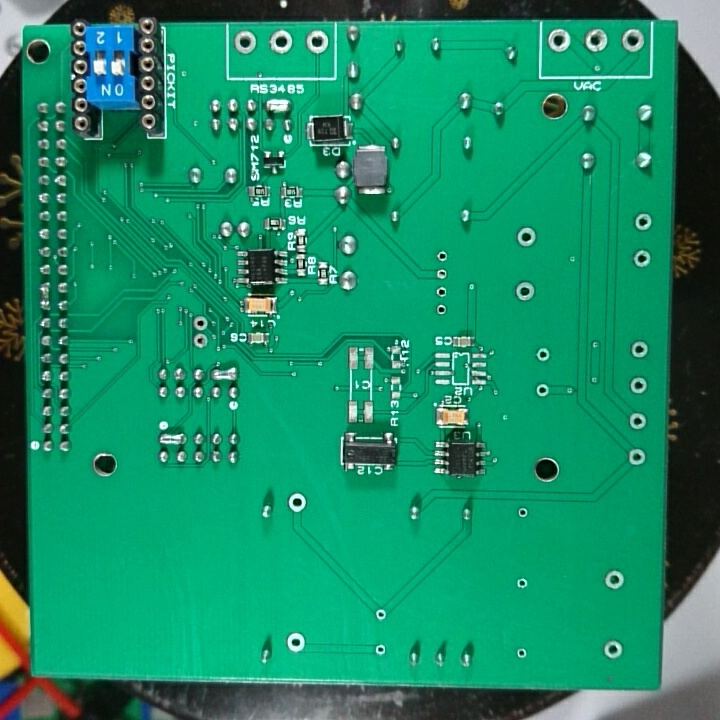F: (544, 26, 575, 57), (268, 26, 296, 60), (582, 25, 610, 56), (619, 25, 645, 55), (303, 28, 330, 56), (233, 29, 259, 58), (284, 489, 310, 517), (625, 445, 650, 471), (601, 567, 626, 592), (600, 637, 625, 661), (284, 630, 308, 655), (513, 278, 536, 303), (516, 225, 539, 249), (627, 409, 649, 434), (633, 212, 656, 235), (627, 337, 649, 361), (633, 248, 653, 272), (627, 375, 649, 395), (190, 332, 212, 352), (190, 312, 210, 332), (533, 381, 552, 402), (534, 345, 553, 365), (513, 575, 532, 592), (434, 246, 451, 265), (434, 298, 449, 318), (372, 640, 388, 658), (374, 606, 390, 623), (434, 266, 450, 282), (515, 646, 530, 662), (515, 505, 530, 521), (435, 283, 449, 300)
P: (208, 362, 242, 384), (263, 94, 295, 115), (156, 430, 189, 448), (37, 277, 54, 311)
